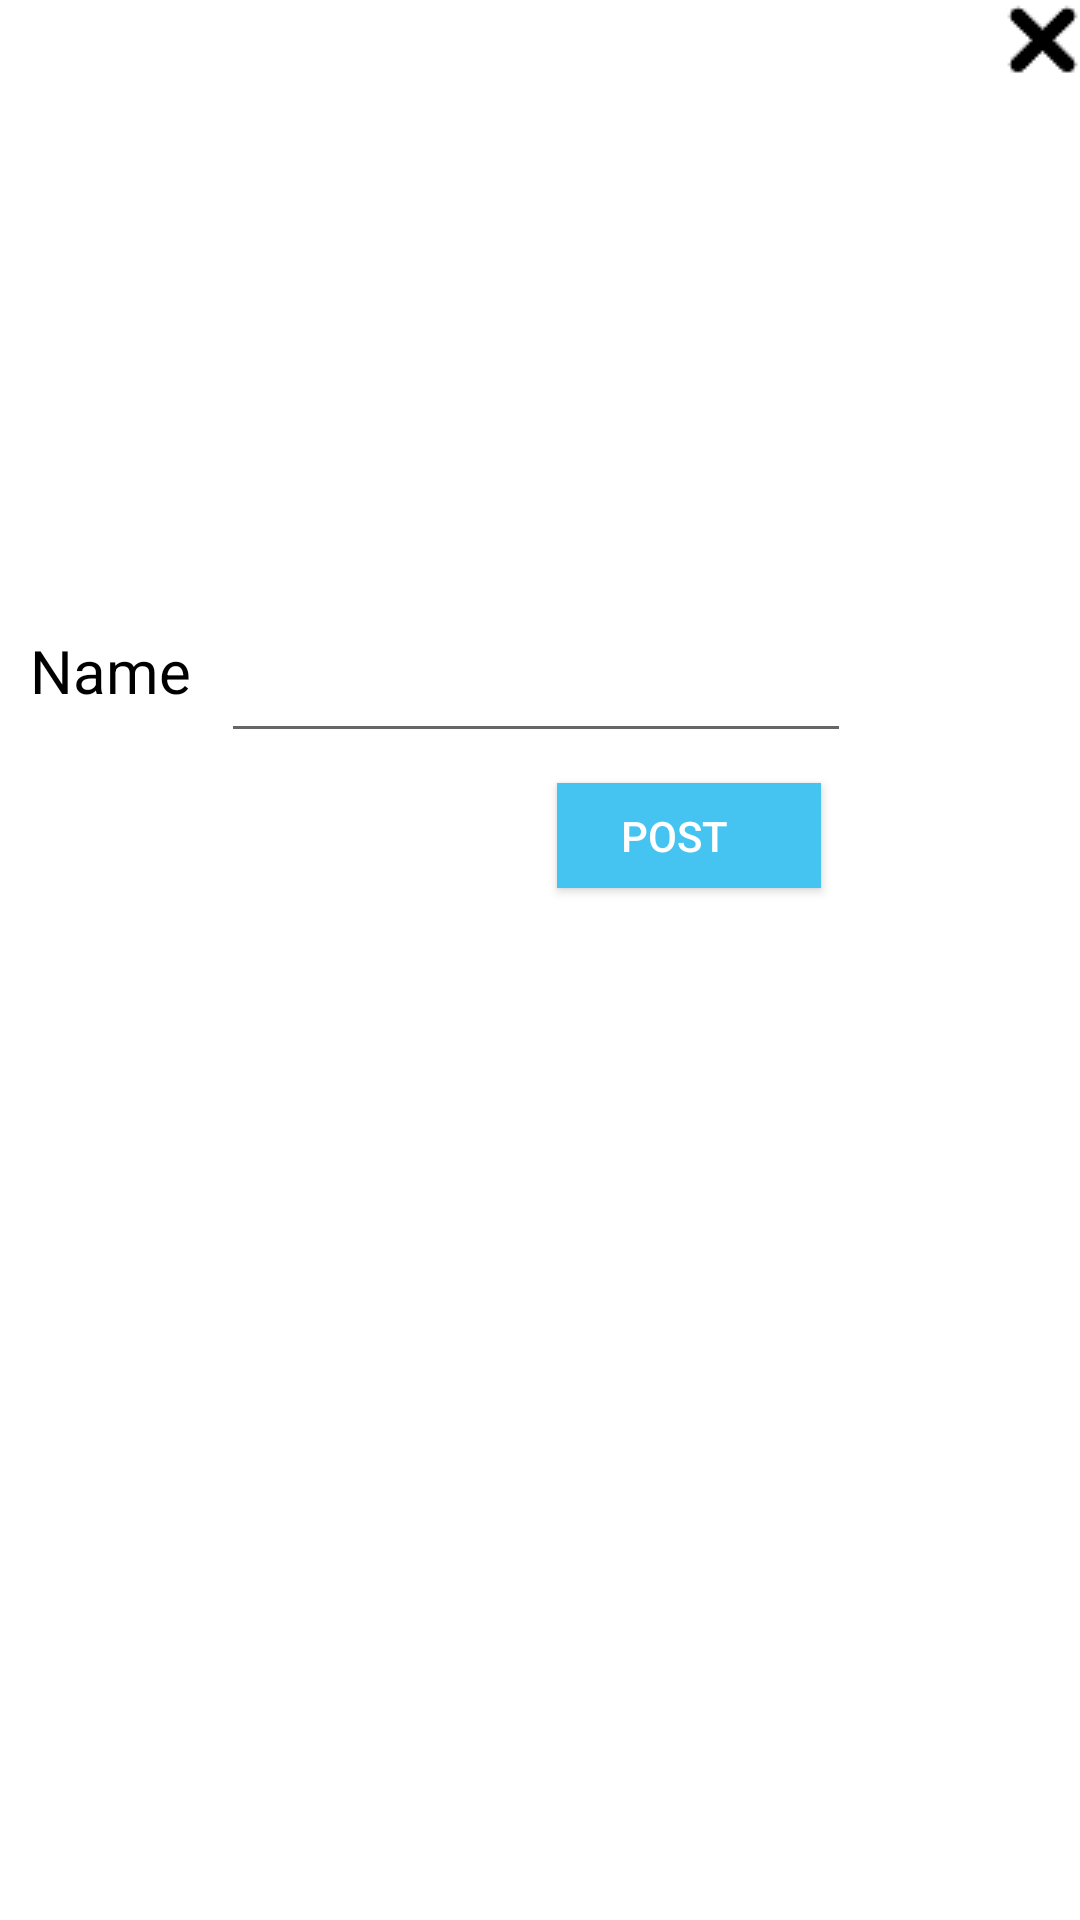

Where to tap for icons on this 1080 × 1920 app screen, as (x=x, y=y):
cancel: (x=1043, y=39)
